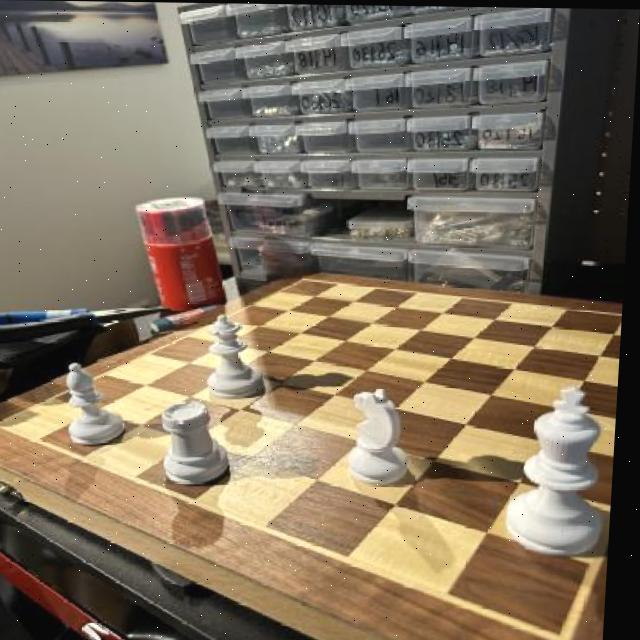white-bishop: (509, 386, 622, 557)
white-king: (339, 389, 418, 492)
white-pawn: (202, 314, 278, 403)
white-queen: (160, 390, 242, 489), (63, 355, 130, 452)
